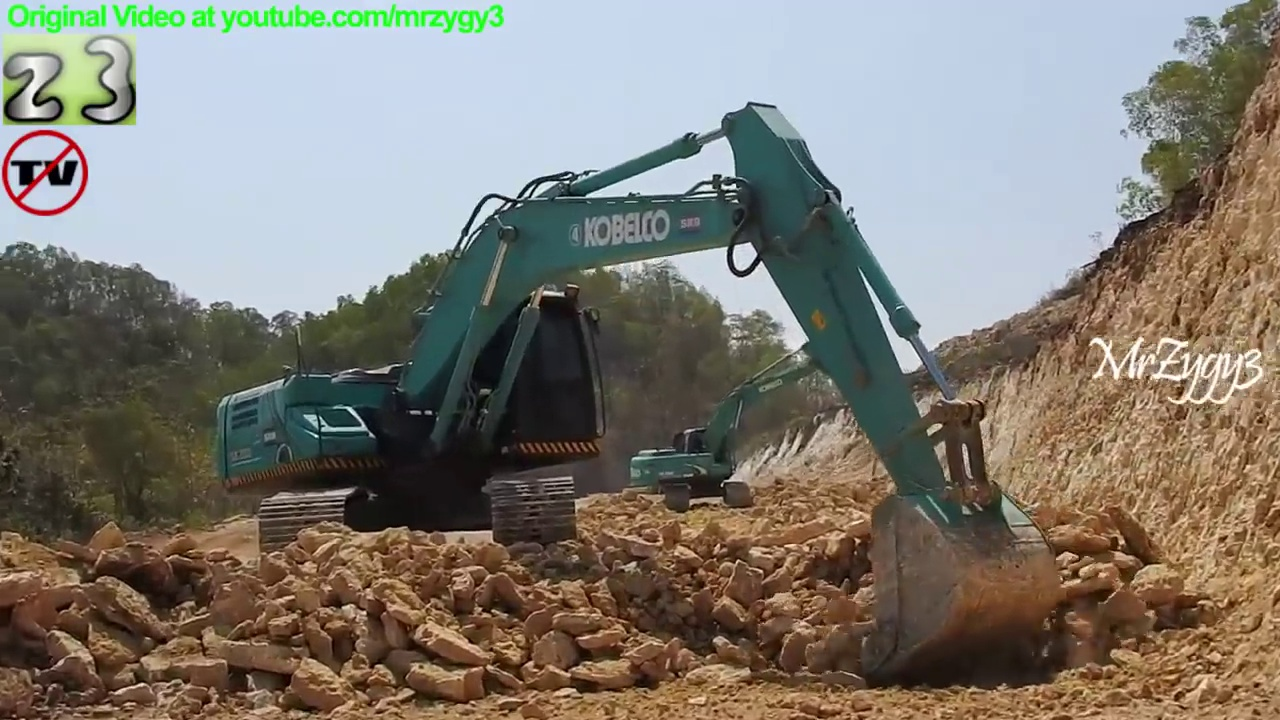excavator: (212, 95, 1071, 689), (623, 328, 915, 516)
